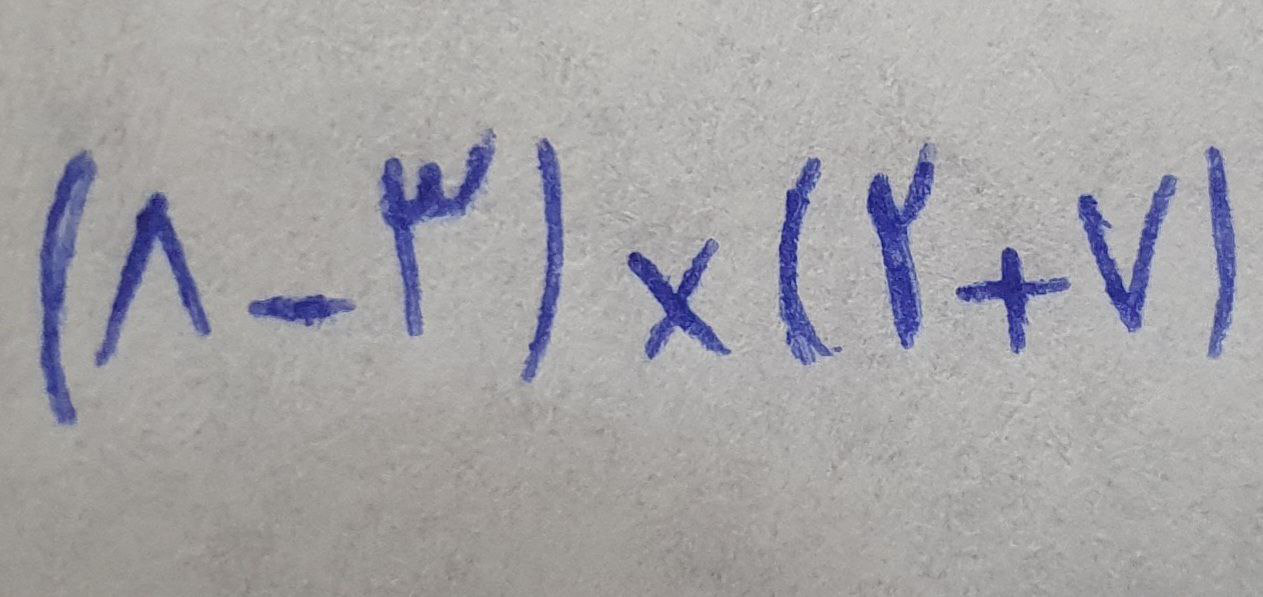character: (380, 129, 494, 336), (95, 192, 212, 369), (1078, 174, 1180, 333), (39, 149, 96, 429), (867, 141, 939, 351), (778, 156, 843, 365), (628, 238, 736, 360), (954, 247, 1073, 354), (520, 137, 565, 383), (1204, 145, 1236, 360), (247, 294, 355, 328)
